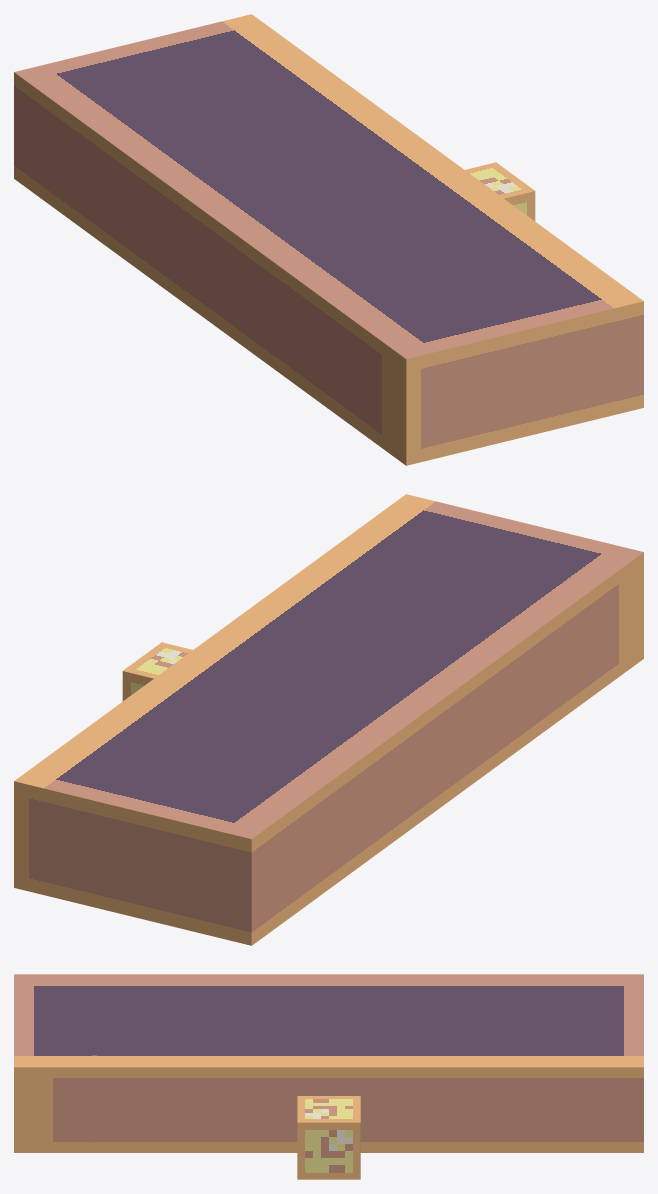
The model's file is Tiroir.glb.
3 renders of one model, top to bottom at view 1: azimuth 30°, elevation 25°; view 2: azimuth 150°, elevation 25°; view 3: azimuth 270°, elevation 25°, orthographic. The views are drawn at different scales.
Visible parts, largest first — view 1: Mesh_114; view 2: Mesh_114; view 3: Mesh_114.
Boxes of the visible parts, <box> form: Mesh_114: <box>14,14,643,465</box>; Mesh_114: <box>14,494,643,945</box>; Mesh_114: <box>14,974,643,1179</box>.
Size of the model in its own units: 2.25 by 0.75 by 5.
Materials: 1 (1 with a texture image).
